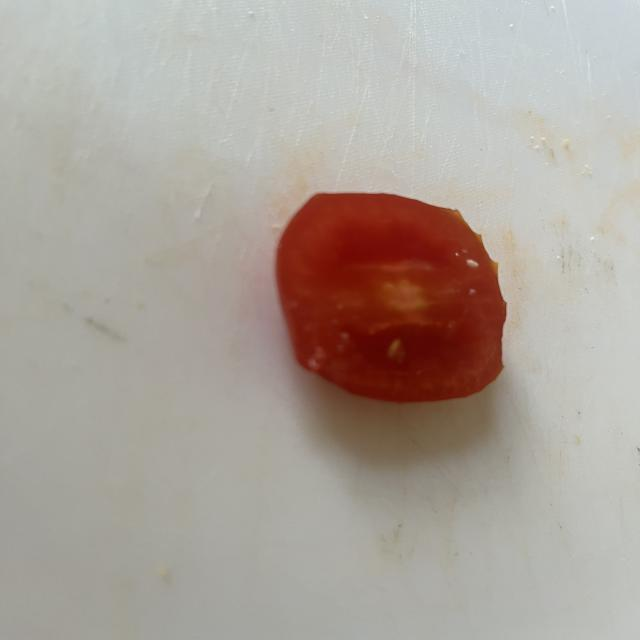sliced_tomato: (276, 193, 506, 402)
